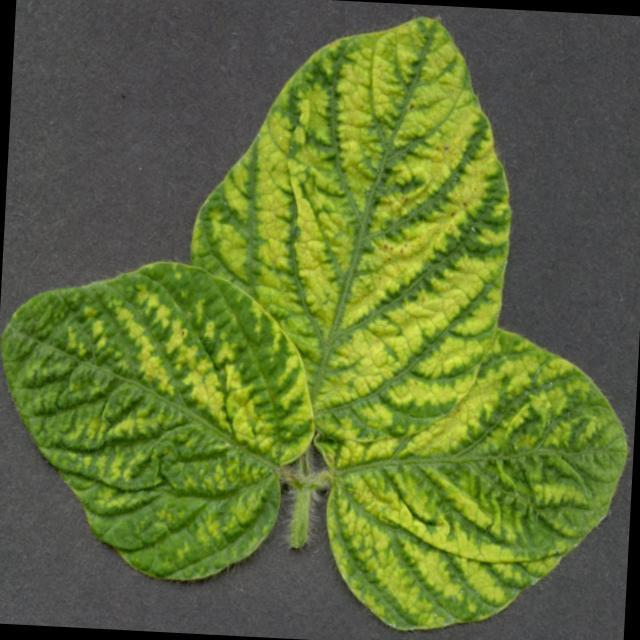Mosaic Virus: (193, 9, 524, 446), (324, 325, 622, 640), (0, 286, 295, 570)
